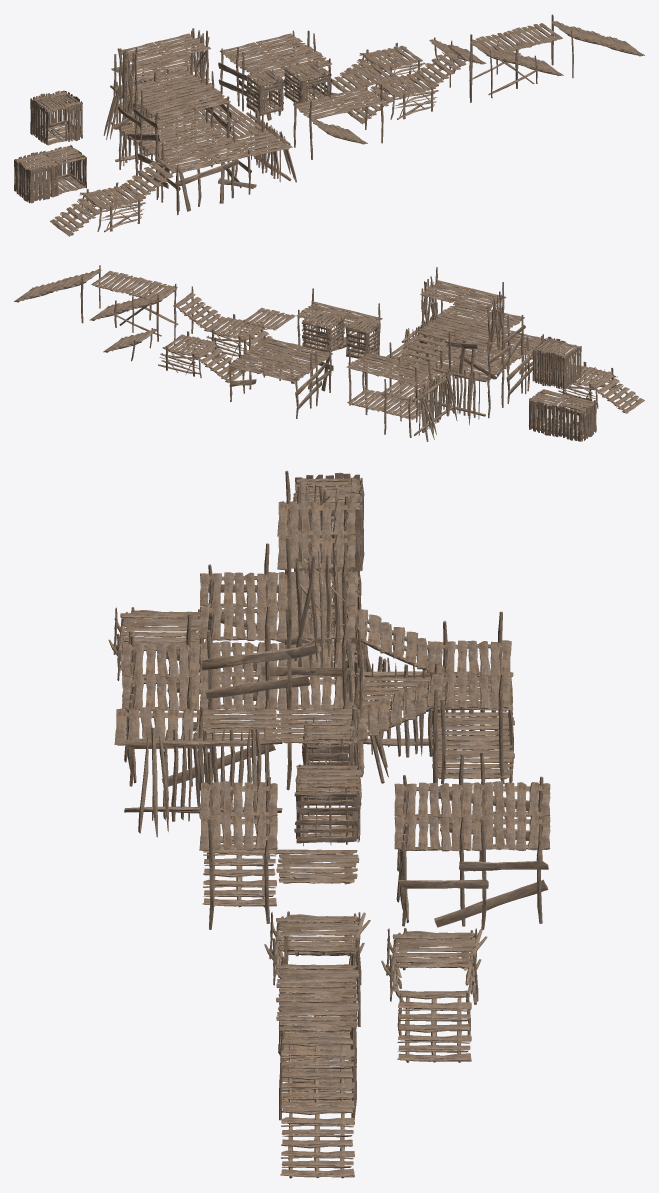
File: Weak Scaffolding A.fbx
The picture shows the model from 3 angles, top to bottom: view 1: azimuth 30°, elevation 25°; view 2: azimuth 150°, elevation 25°; view 3: azimuth 270°, elevation 25°; orthographic projection. The views are drawn at different scales.
Visible parts, largest first — view 1: Cylinder.139, Cylinder.140, Cylinder.141, Weak_Scaffolding_1A2, Wooden_Cage_1A3, Weak_Scaffolding_Stairs_1A5, Wooden_Cage_1A4, Weak_Scaffolding_1A1, Wooden_Cage_1A2, Weak_Scaffolding_Stairs_1A4, Weak_Scaffolding_1A2.001, Wooden_Cage_1A1 (+26 smaller); view 2: Cylinder.139, Cylinder.140, Cylinder.141, Weak_Scaffolding_1A2, Wooden_Cage_1A3, Weak_Scaffolding_Stairs_1A5, Wooden_Cage_1A4, Weak_Scaffolding_Stairs_1A4, Weak_Scaffolding_1A2.001, Wooden_Cage_1A2, Weak_Scaffolding_Platform_1A2, Weak_Scaffolding_1A2.002 (+25 smaller); view 3: Cylinder.139, Cylinder.140, Cylinder.141, Weak_Scaffolding_1A2, Weak_Scaffolding_Stairs_1A2, Weak_Scaffolding_1A2.001, Weak_Scaffolding_1A1, Wooden_Cage_1A2, Weak_Scaffolding_Platform_1A2, Weak_Scaffolding_Stairs_1A5, Weak_Scaffolding_Stairs_1A4, Weak_Scaffolding_Stairs_1A (+21 smaller).
Part boxes in pixels (left/top/right/bottom): Cylinder.139: left=50, top=28, right=296, bottom=236; Cylinder.140: left=51, top=28, right=293, bottom=235; Cylinder.141: left=54, top=31, right=295, bottom=235; Weak_Scaffolding_1A2: left=218, top=30, right=336, bottom=120; Wooden_Cage_1A3: left=14, top=145, right=86, bottom=203; Weak_Scaffolding_Stairs_1A5: left=347, top=40, right=471, bottom=124; Wooden_Cage_1A4: left=30, top=90, right=82, bottom=145; Weak_Scaffolding_1A1: left=293, top=84, right=385, bottom=159; Wooden_Cage_1A2: left=283, top=60, right=331, bottom=105; Weak_Scaffolding_Stairs_1A4: left=331, top=42, right=425, bottom=94; Weak_Scaffolding_1A2.001: left=218, top=30, right=331, bottom=119; Wooden_Cage_1A1: left=246, top=69, right=283, bottom=116; Cylinder.139: left=346, top=267, right=644, bottom=441; Cylinder.140: left=347, top=268, right=644, bottom=441; Cylinder.141: left=348, top=276, right=643, bottom=440; Weak_Scaffolding_1A2: left=227, top=334, right=333, bottom=418; Wooden_Cage_1A3: left=528, top=389, right=596, bottom=441; Weak_Scaffolding_Stairs_1A5: left=173, top=286, right=283, bottom=364; Wooden_Cage_1A4: left=532, top=336, right=581, bottom=389; Weak_Scaffolding_Stairs_1A4: left=158, top=331, right=245, bottom=382; Weak_Scaffolding_1A2.001: left=227, top=335, right=333, bottom=418; Wooden_Cage_1A2: left=302, top=309, right=344, bottom=352; Weak_Scaffolding_Platform_1A2: left=91, top=271, right=177, bottom=301; Weak_Scaffolding_1A2.002: left=228, top=338, right=333, bottom=417; Cylinder.139: left=108, top=471, right=514, bottom=836; Cylinder.140: left=112, top=470, right=514, bottom=835; Cylinder.141: left=112, top=472, right=514, bottom=837; Weak_Scaffolding_1A2: left=394, top=752, right=550, bottom=929; Weak_Scaffolding_Stairs_1A2: left=279, top=1026, right=356, bottom=1178; Weak_Scaffolding_1A2.001: left=394, top=752, right=550, bottom=929; Weak_Scaffolding_1A1: left=199, top=752, right=277, bottom=929; Wooden_Cage_1A2: left=294, top=760, right=361, bottom=845; Weak_Scaffolding_Platform_1A2: left=276, top=965, right=359, bottom=1032; Weak_Scaffolding_Stairs_1A5: left=264, top=911, right=370, bottom=1026; Weak_Scaffolding_Stairs_1A4: left=381, top=927, right=486, bottom=1004; Weak_Scaffolding_Stairs_1A: left=397, top=990, right=471, bottom=1062.
Bounding box in the file's own units: 6818 × 1492 × 2269.
